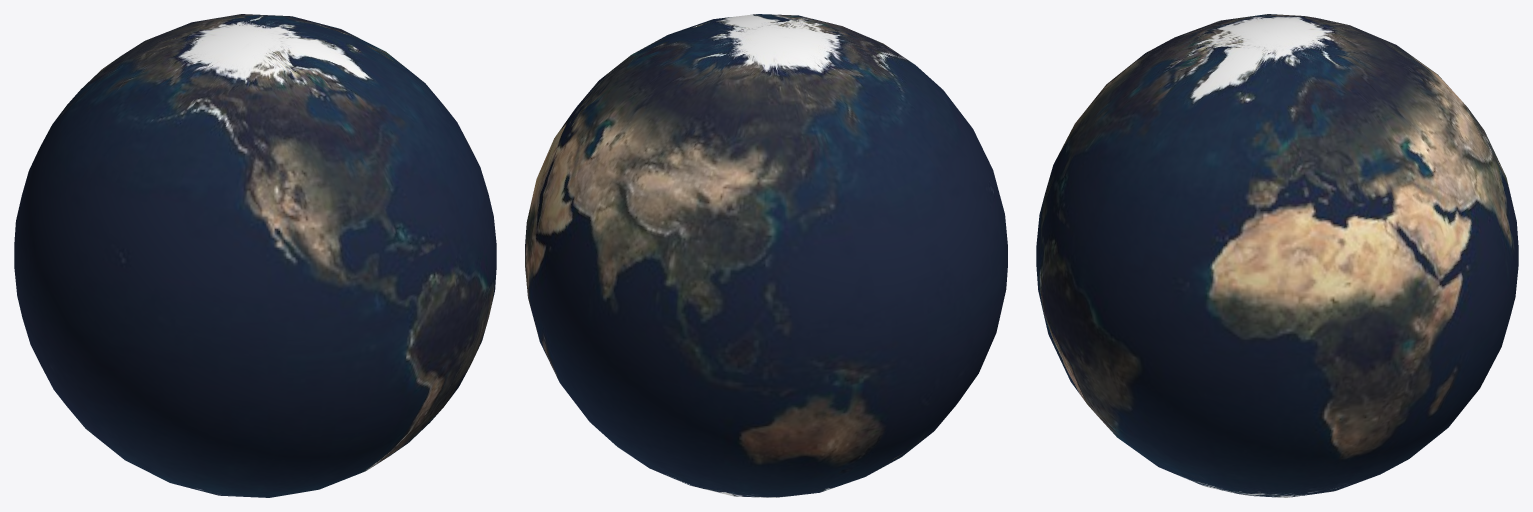
File: earth.obj
The picture shows the model from 3 angles, left to right: view 1: azimuth 30°, elevation 25°; view 2: azimuth 150°, elevation 25°; view 3: azimuth 270°, elevation 25°; orthographic projection.
Size of the model in its own units: 2 by 2 by 1.99.
Materials: 1 (1 with a texture image).
